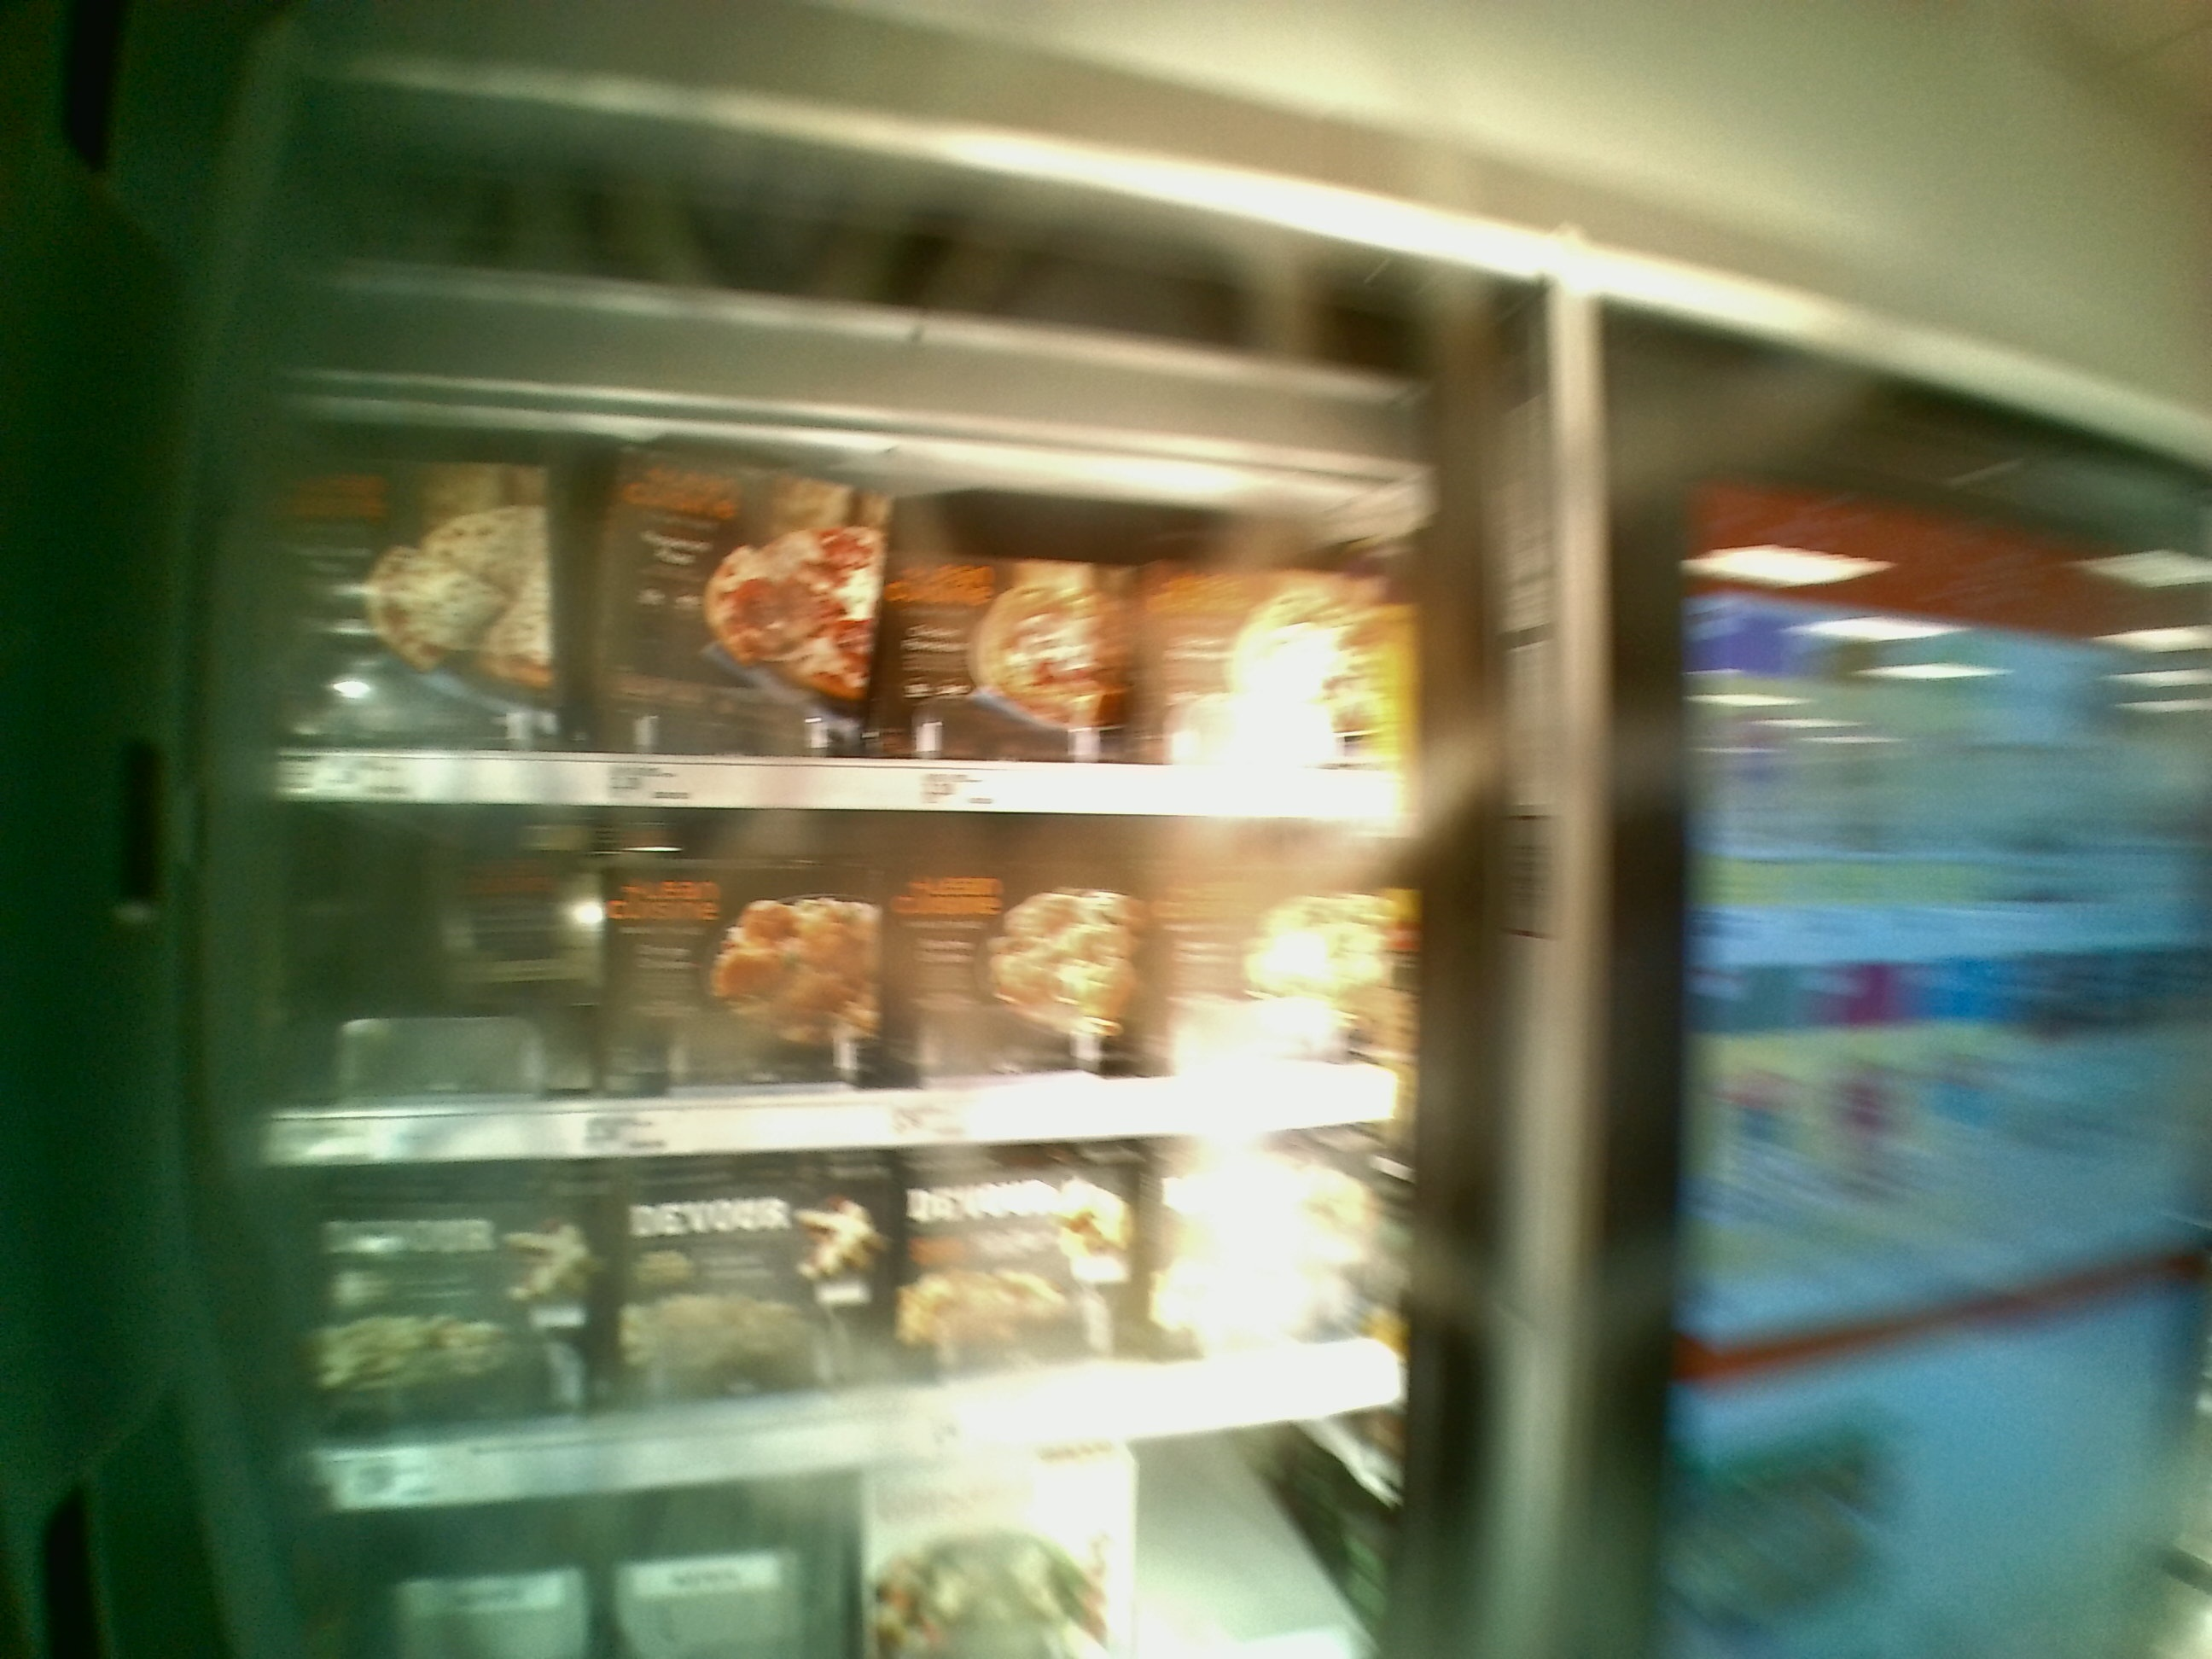Shelf: (265, 396, 1413, 824), (235, 802, 1411, 1155)
